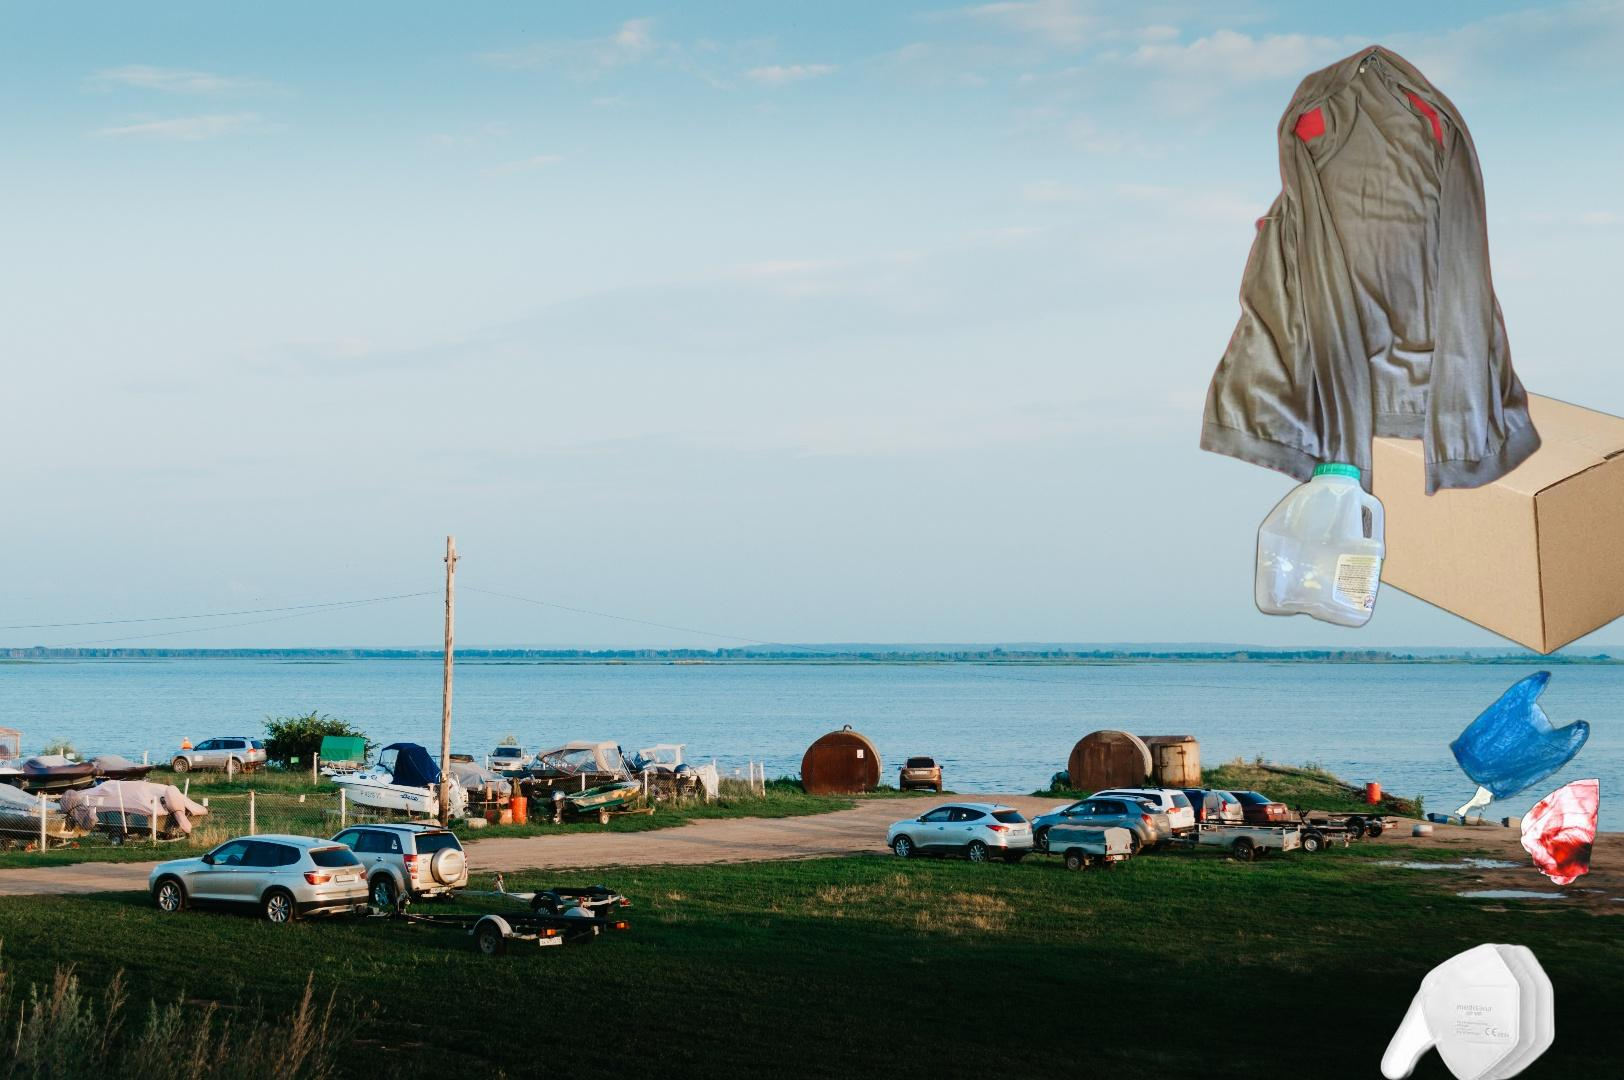clothes: (1198, 41, 1544, 510)
plastic-bag: (1447, 668, 1604, 888)
plastic-bottles: (1251, 456, 1390, 634)
trash: (1378, 940, 1558, 1080)
trashbox-cardboard: (1346, 376, 1624, 658)
